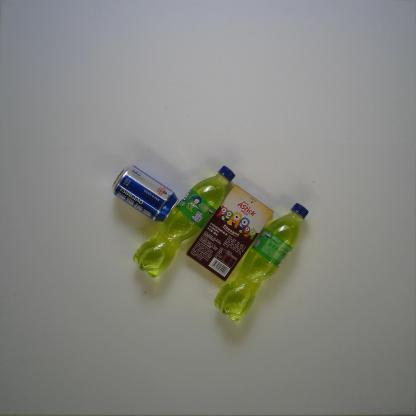Alcohol: (111, 164, 180, 224)
Dessert: (185, 184, 275, 282)
Drink: (132, 164, 236, 279), (213, 202, 310, 322)
